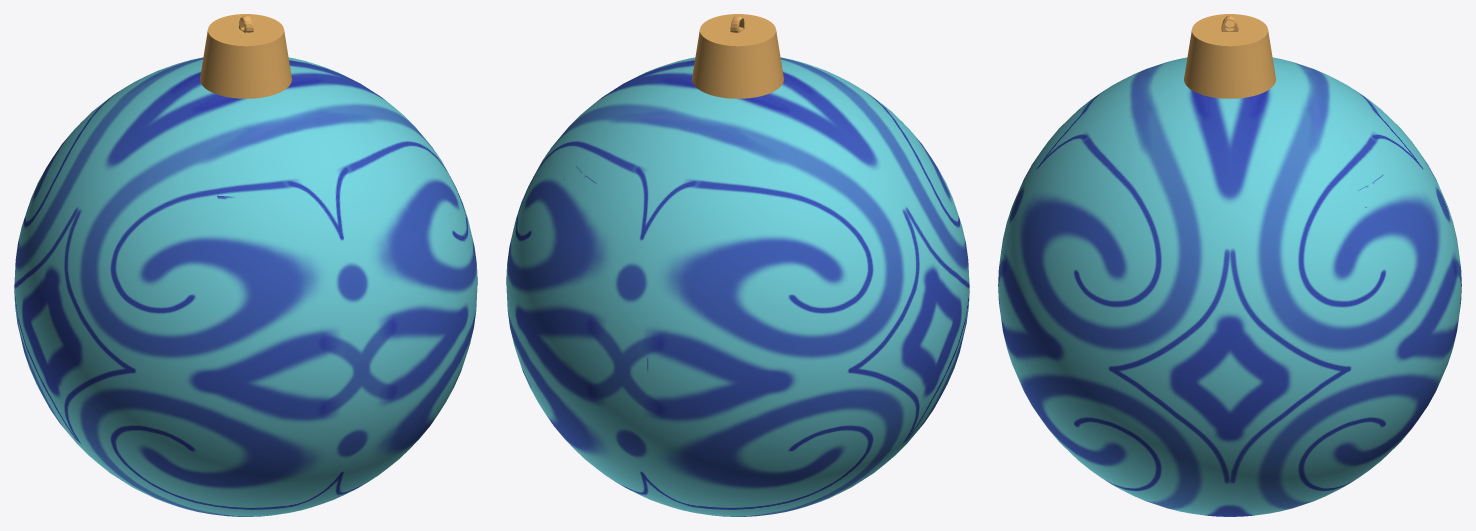
Rendered from Balls.fbx.
3 views of the same model, side by side, from view 1: azimuth 30°, elevation 25°; view 2: azimuth 150°, elevation 25°; view 3: azimuth 270°, elevation 25° (orthographic).
Visible parts, largest first — view 1: Sphere, Cylinder; view 2: Sphere, Cylinder; view 3: Sphere, Cylinder.
Part boxes in pixels (<box>): Sphere: <box>14,57,477,516</box>; Cylinder: <box>200,14,291,98</box>; Sphere: <box>506,57,969,516</box>; Cylinder: <box>692,14,783,98</box>; Sphere: <box>998,57,1461,516</box>; Cylinder: <box>1184,14,1275,98</box>.
Bounding box in the file's own units: 200 × 200 × 228.
Materials: 2 (1 with a texture image).
